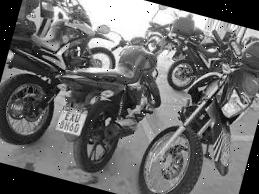placa_mercosul: (54, 105, 87, 138)
